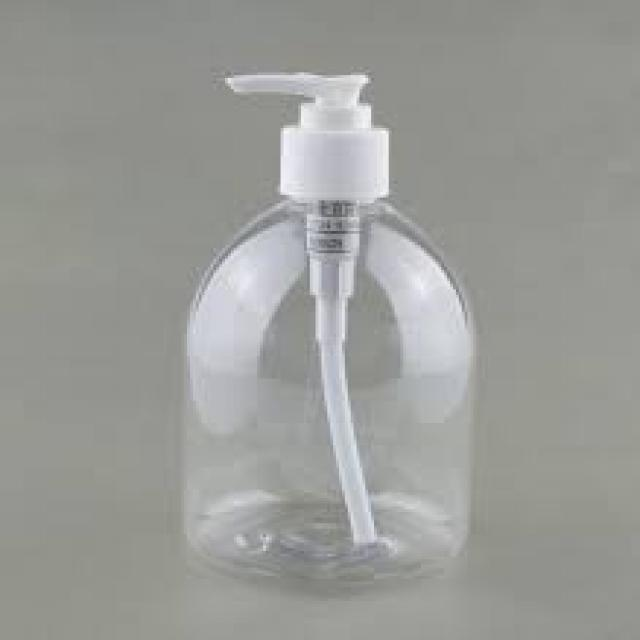Plastic: (182, 71, 471, 592)
